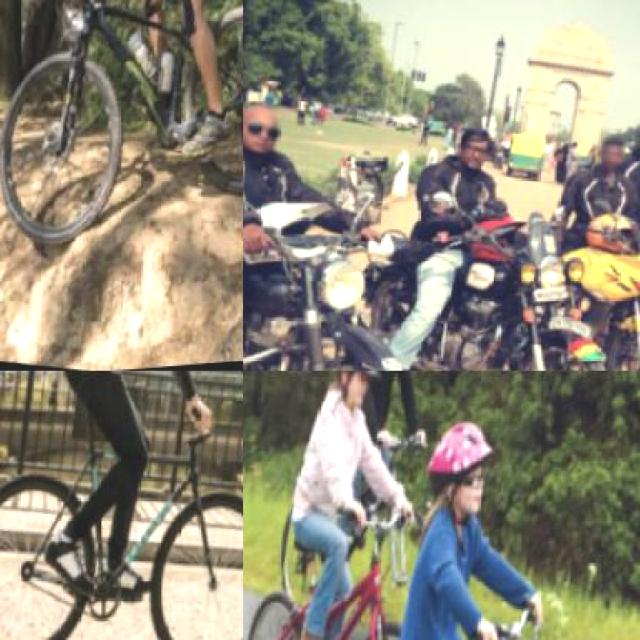With Helmet: (407, 407, 504, 541), (318, 371, 388, 422)
Without Helmet: (442, 121, 500, 179), (243, 97, 289, 169), (588, 137, 628, 186), (624, 120, 638, 172)
